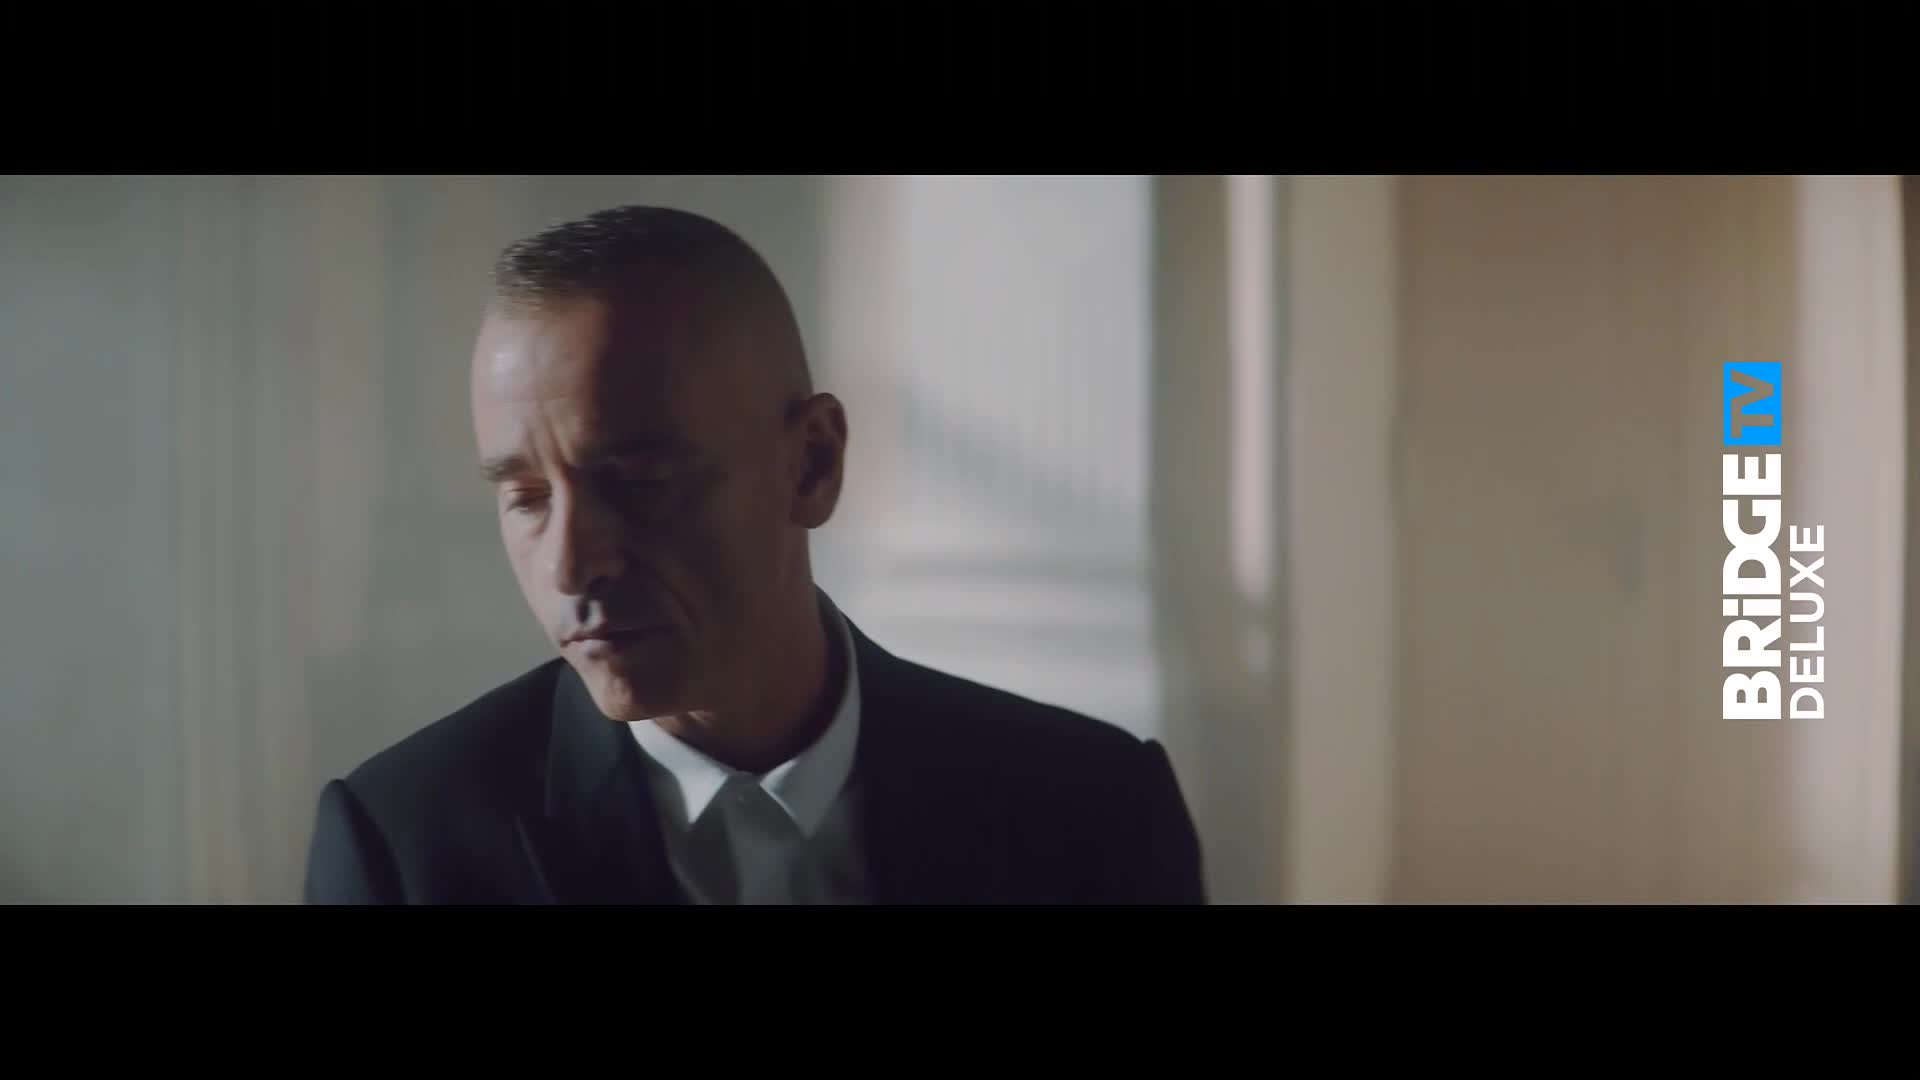Bridge_TV_Deluxe: (1716, 353, 1832, 731)
